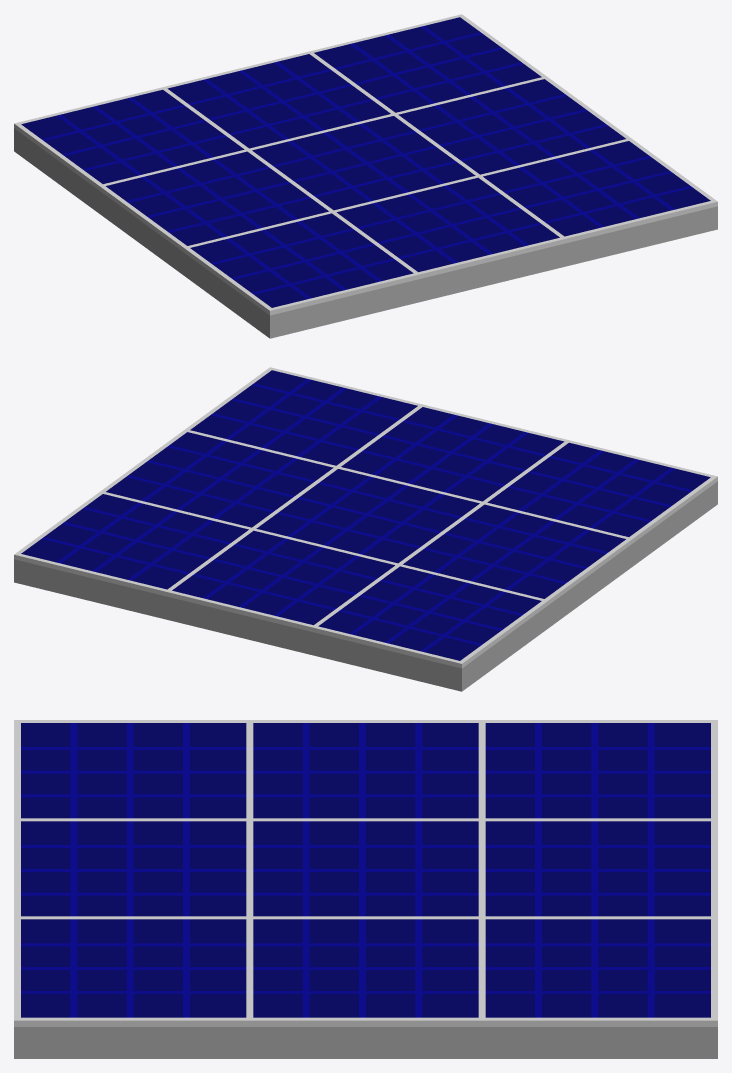
The model's file is solar pannel flat.obj.
3 views of the same model, one above another, from view 1: azimuth 30°, elevation 25°; view 2: azimuth 150°, elevation 25°; view 3: azimuth 270°, elevation 25° (orthographic). The views are drawn at different scales.
Parts seen in each view (by area): view 1: solar pannel flat; view 2: solar pannel flat; view 3: solar pannel flat.
Part boxes in pixels (bbox=[...]): solar pannel flat: bbox=[14, 14, 717, 338]; solar pannel flat: bbox=[14, 367, 717, 691]; solar pannel flat: bbox=[14, 720, 717, 1058].
Size of the model in its own units: 101 by 6 by 100.
Materials: 1 (1 with a texture image).
